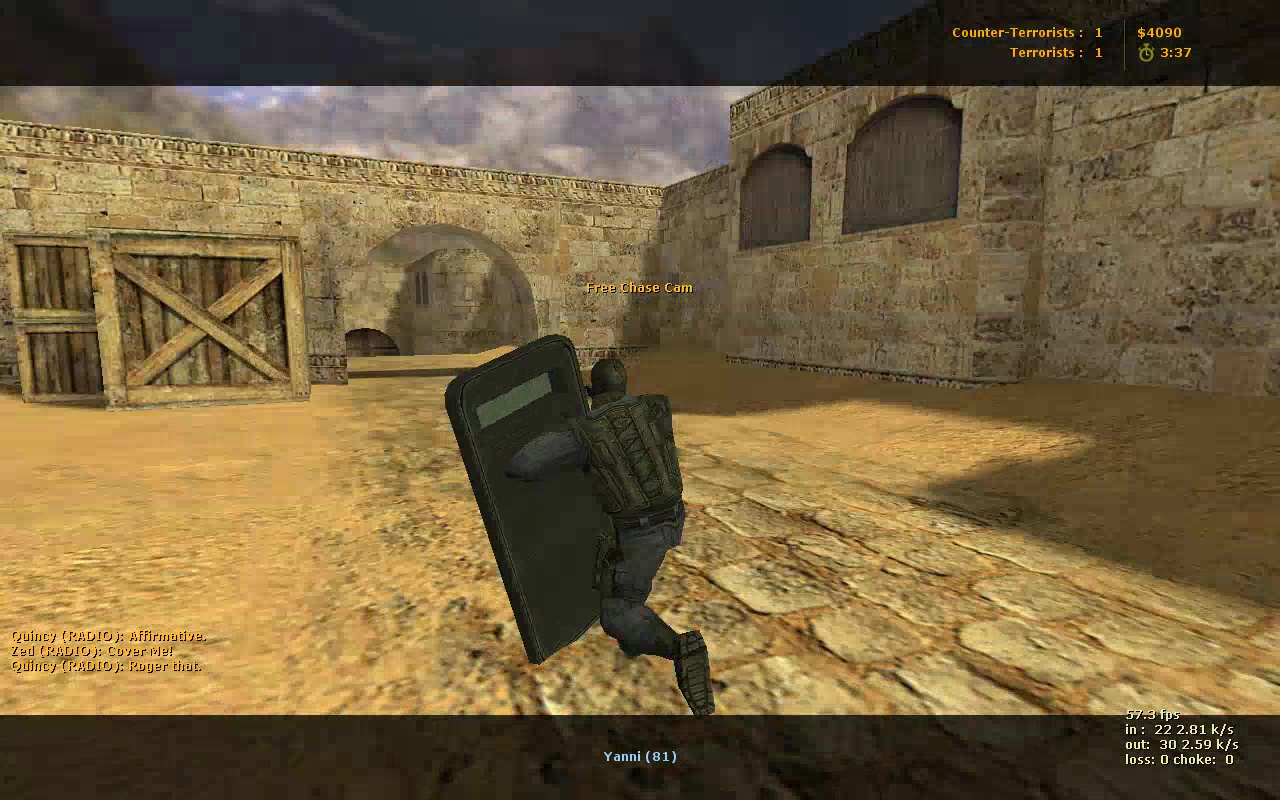ct: (443, 335, 716, 716)
